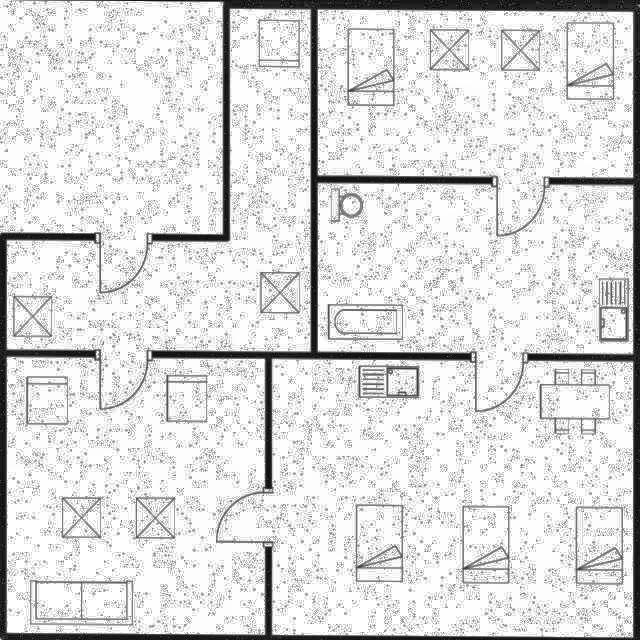room: (7, 8, 311, 351), (271, 358, 635, 637), (5, 357, 267, 635), (317, 182, 634, 354), (317, 9, 635, 177)
